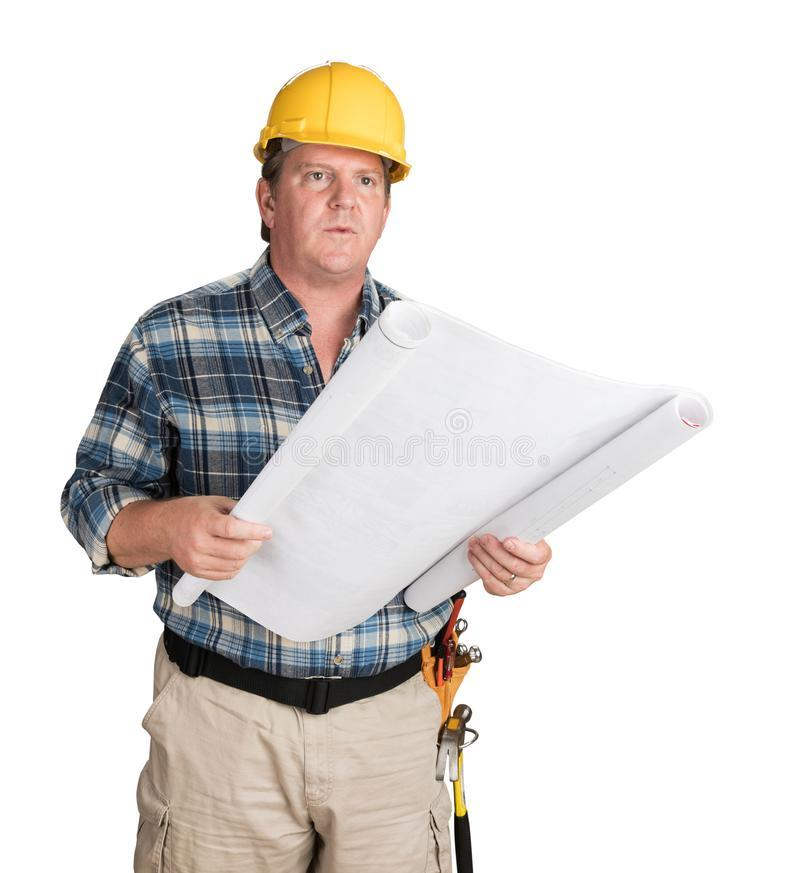helmet: (255, 61, 418, 186)
